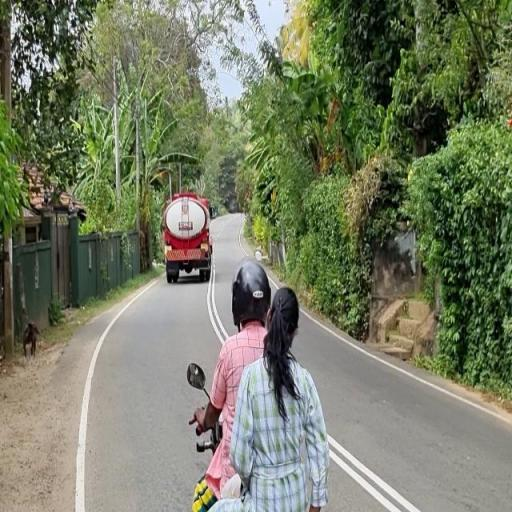double_white_line: (326, 432, 422, 510)
